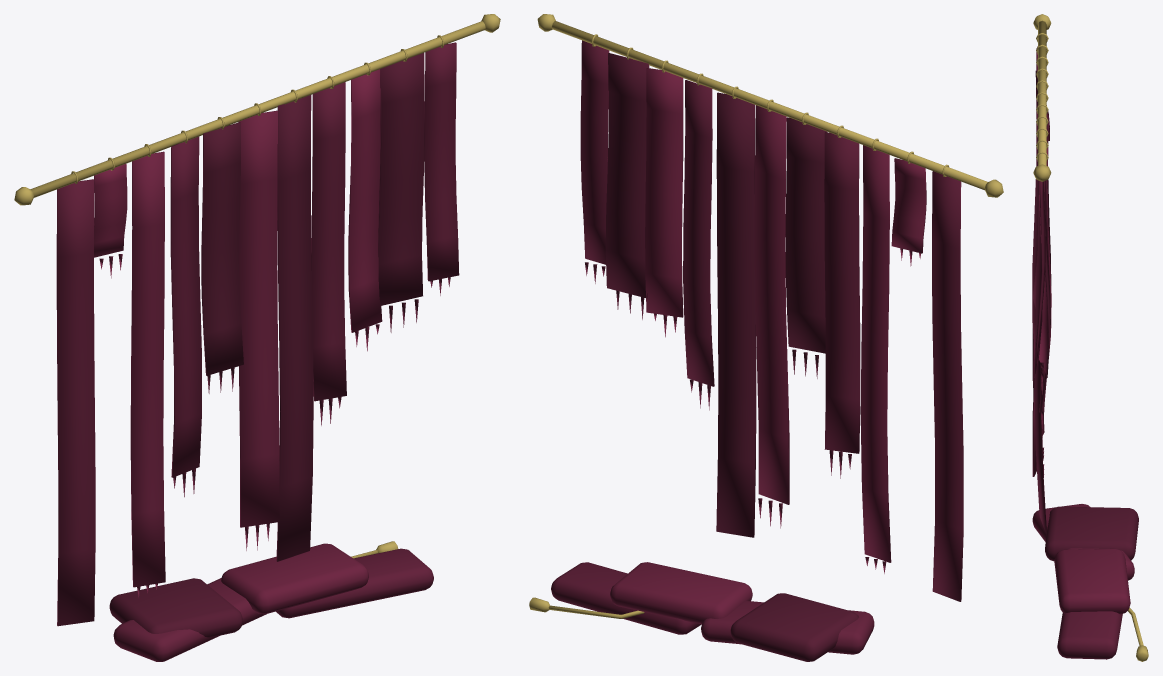
The model's file is curtain_shredded.glb.
3 views of the same model, side by side, from view 1: azimuth 30°, elevation 25°; view 2: azimuth 150°, elevation 25°; view 3: azimuth 270°, elevation 25° (orthographic). The views are drawn at different scales.
Visible parts, largest first — view 1: curtain_shredded; view 2: curtain_shredded; view 3: curtain_shredded.
Part boxes in pixels (x1,y1,x2,y2): curtain_shredded: (14, 14, 500, 661); curtain_shredded: (529, 14, 1003, 661); curtain_shredded: (1032, 14, 1148, 661).
Size of what is drawn, in the model's own units: 2.78 by 3.13 by 0.64.
